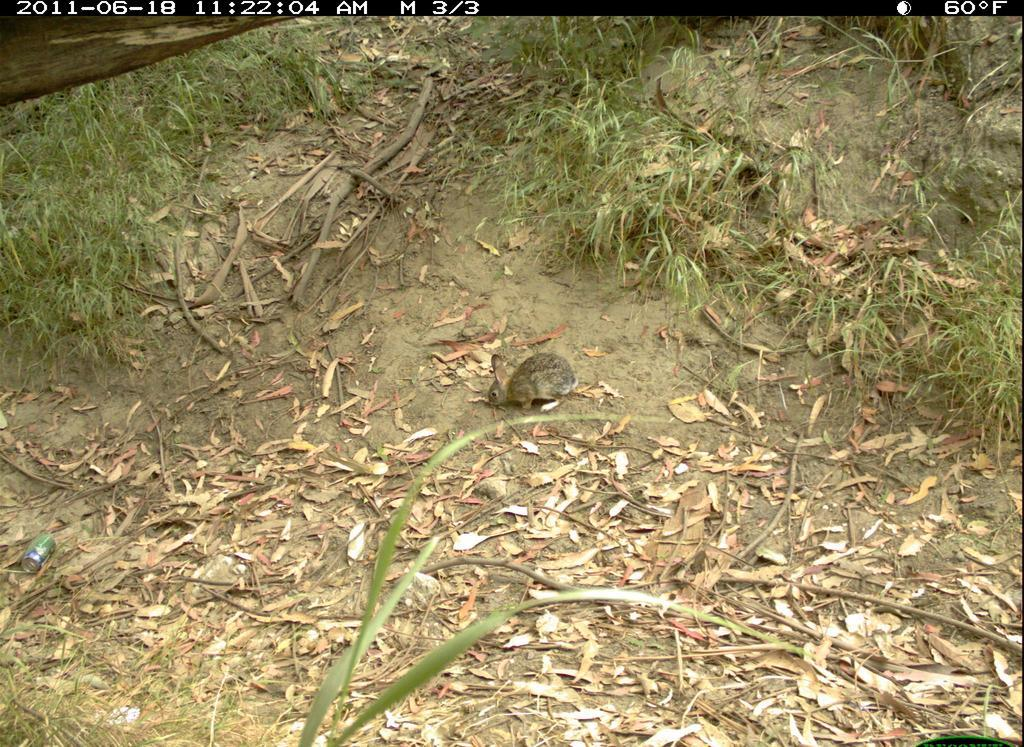rabbit: (472, 333, 596, 422)
